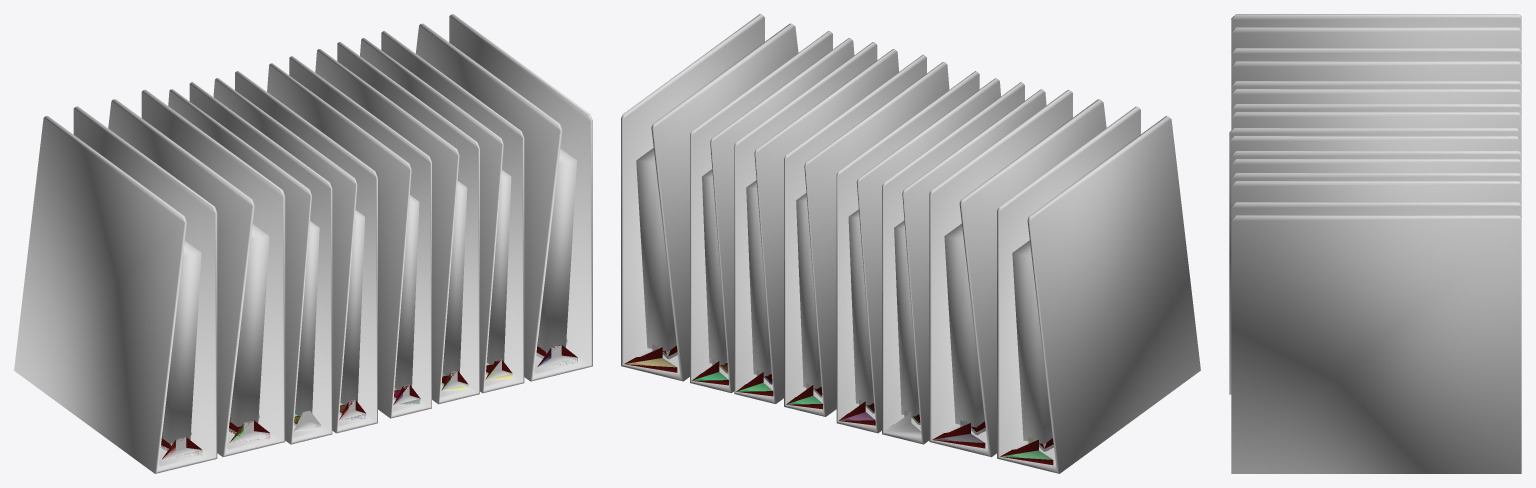
The picture shows the model from 3 angles, left to right: view 1: azimuth 30°, elevation 25°; view 2: azimuth 150°, elevation 25°; view 3: azimuth 270°, elevation 25°; orthographic projection. The views are drawn at different scales.
Bounding box in the file's own units: 0.5348 × 0.2973 × 0.3005.
